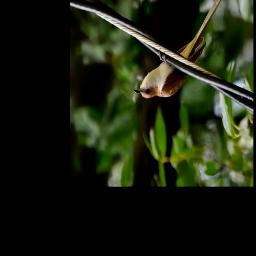Cuckoo: (133, 0, 226, 100)
